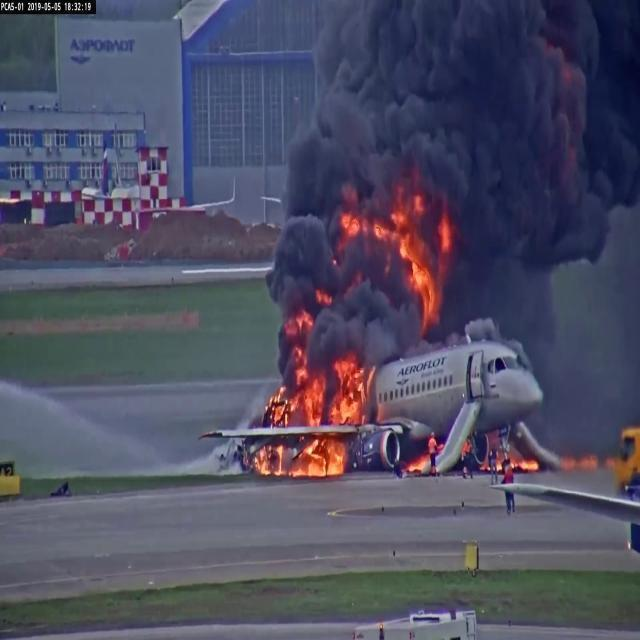Fire: (303, 363, 372, 421), (303, 441, 355, 477)
Smoke: (330, 5, 635, 184), (272, 227, 319, 369)
